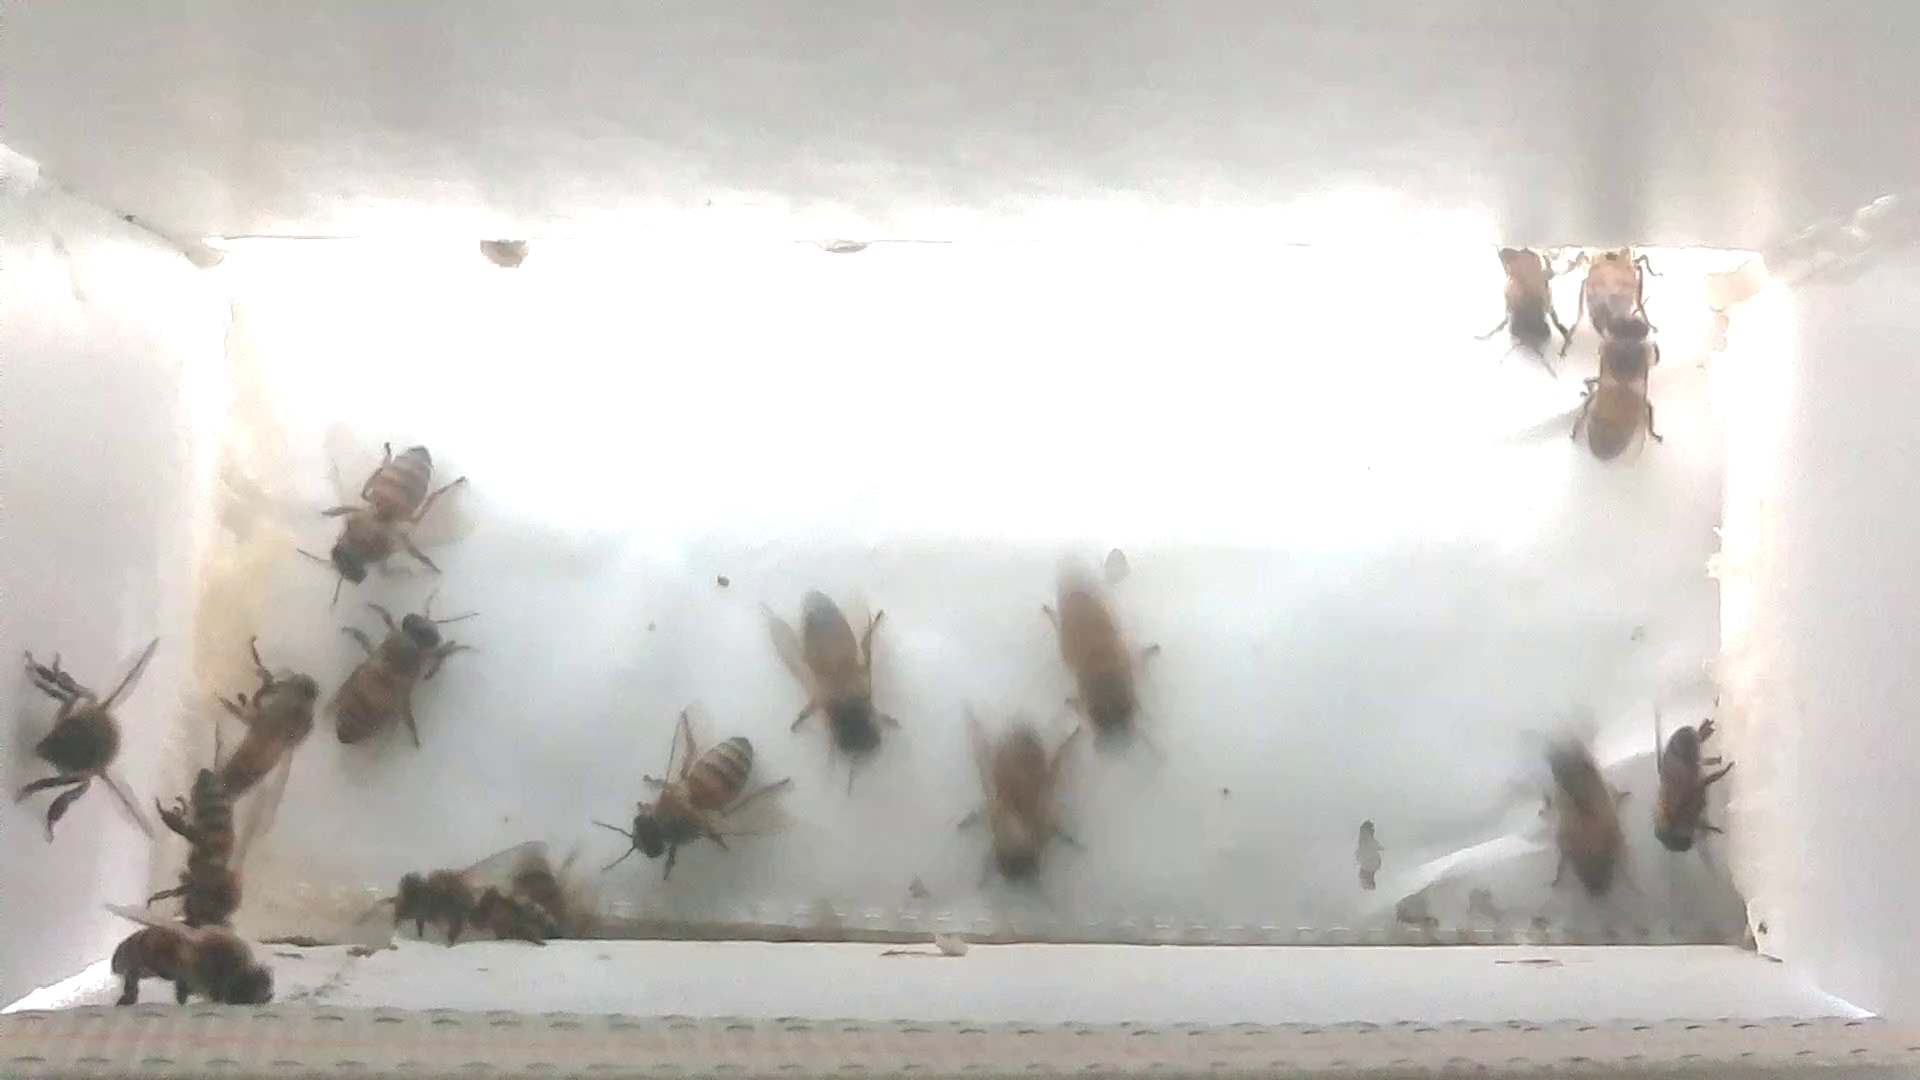bee: (1, 611, 171, 856), (589, 686, 790, 886), (746, 564, 919, 781), (306, 568, 483, 775), (943, 698, 1113, 901), (306, 411, 481, 607), (69, 893, 303, 1034), (179, 618, 335, 825), (1040, 564, 1179, 756), (1524, 724, 1655, 914), (367, 840, 563, 960), (1625, 690, 1746, 878), (1568, 286, 1685, 473), (148, 742, 258, 924), (1476, 229, 1578, 392), (1559, 224, 1659, 360)
